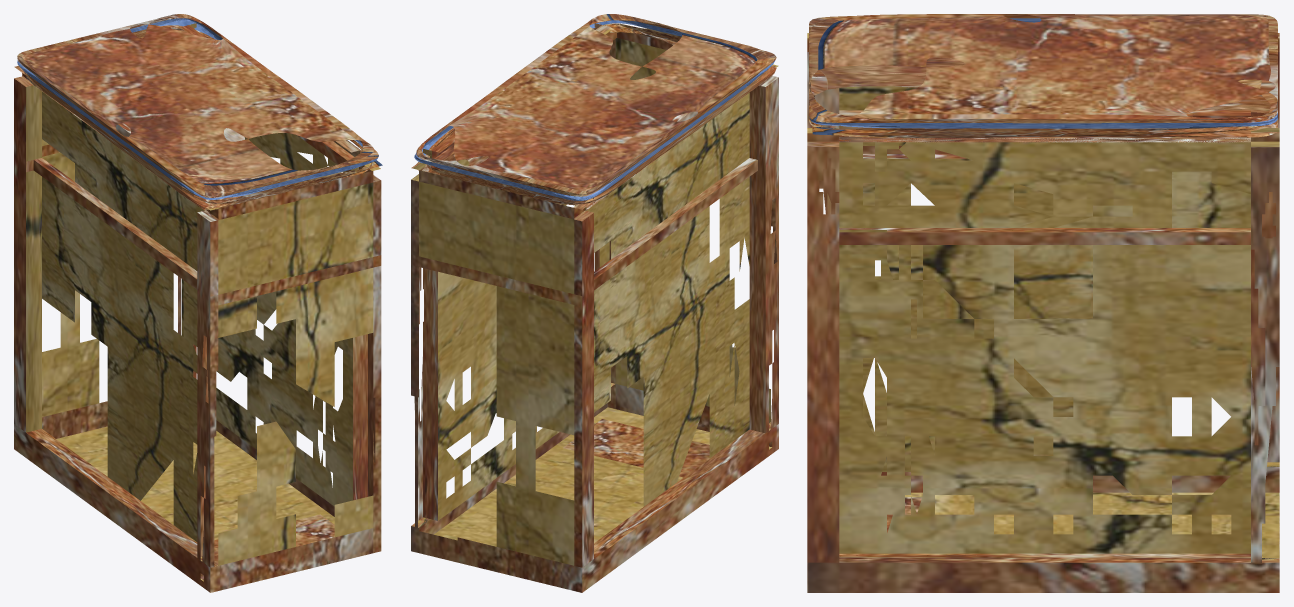
File: Yamato_semidemolised_wall.fbx
3 views of the same model, side by side, from view 1: azimuth 30°, elevation 25°; view 2: azimuth 150°, elevation 25°; view 3: azimuth 270°, elevation 25° (orthographic). The views are drawn at different scales.
Parts seen in each view (by area): view 1: Cube, Cube.001; view 2: Cube, Cube.001; view 3: Cube, Cube.001.
Part boxes in pixels (x1,y1,x2,y2): Cube: (14,23,381,592); Cube.001: (17,14,382,209); Cube: (411,23,778,592); Cube.001: (414,14,776,205); Cube: (807,33,1279,592); Cube.001: (809,14,1277,137).
Bounding box in the file's own units: 230 × 488 × 438.
2 materials, 2 textured.
